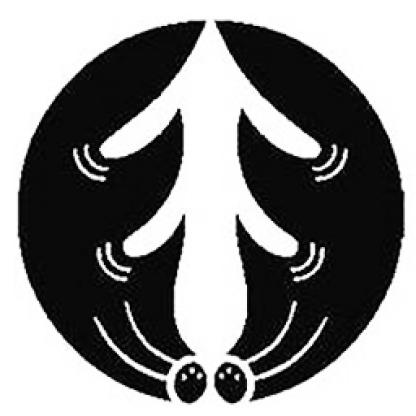kamon: (16, 19, 408, 408)
